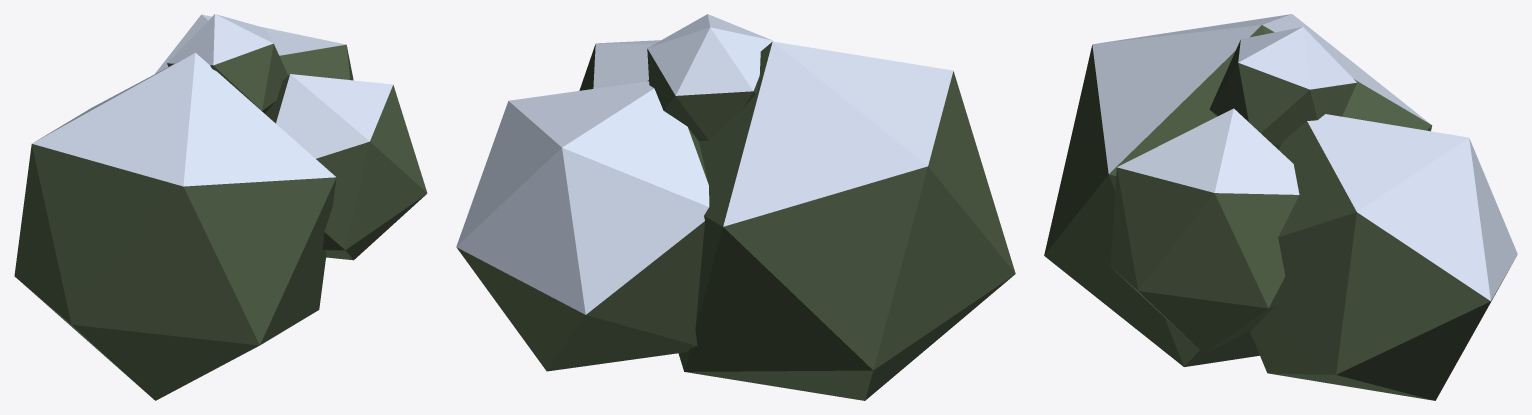
Rendered from rock_snow_1.fbx.
3 views of the same model, side by side, from view 1: azimuth 30°, elevation 25°; view 2: azimuth 150°, elevation 25°; view 3: azimuth 270°, elevation 25° (orthographic). The views are drawn at different scales.
Parts seen in each view (by area): view 1: rock_2, BUSH.003, BUSH.004, BUSH.002; view 2: rock_2, BUSH.002, BUSH.004, BUSH.003; view 3: BUSH.002, rock_2, BUSH.003, BUSH.004.
Boxes of the visible parts, bbox=[...] form: rock_2: bbox=[14, 52, 336, 400]; BUSH.003: bbox=[265, 74, 427, 260]; BUSH.004: bbox=[167, 14, 288, 113]; BUSH.002: bbox=[155, 14, 353, 80]; rock_2: bbox=[678, 41, 1015, 400]; BUSH.002: bbox=[456, 81, 709, 371]; BUSH.004: bbox=[647, 14, 773, 141]; BUSH.003: bbox=[579, 40, 660, 90]; BUSH.002: bbox=[1250, 114, 1517, 400]; rock_2: bbox=[1044, 14, 1432, 366]; BUSH.003: bbox=[1110, 108, 1299, 353]; BUSH.004: bbox=[1209, 27, 1356, 149].
Size of the model in its own units: 4.09 by 3.45 by 3.85.
